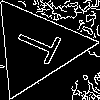T: (11, 22, 72, 70)
